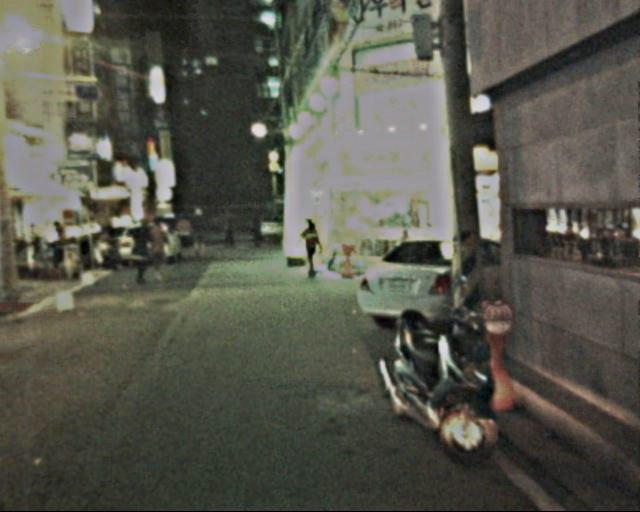person: (142, 217, 174, 283), (296, 216, 326, 279), (127, 223, 154, 286), (188, 207, 209, 256), (170, 212, 193, 256), (215, 209, 237, 248), (244, 211, 262, 247)
